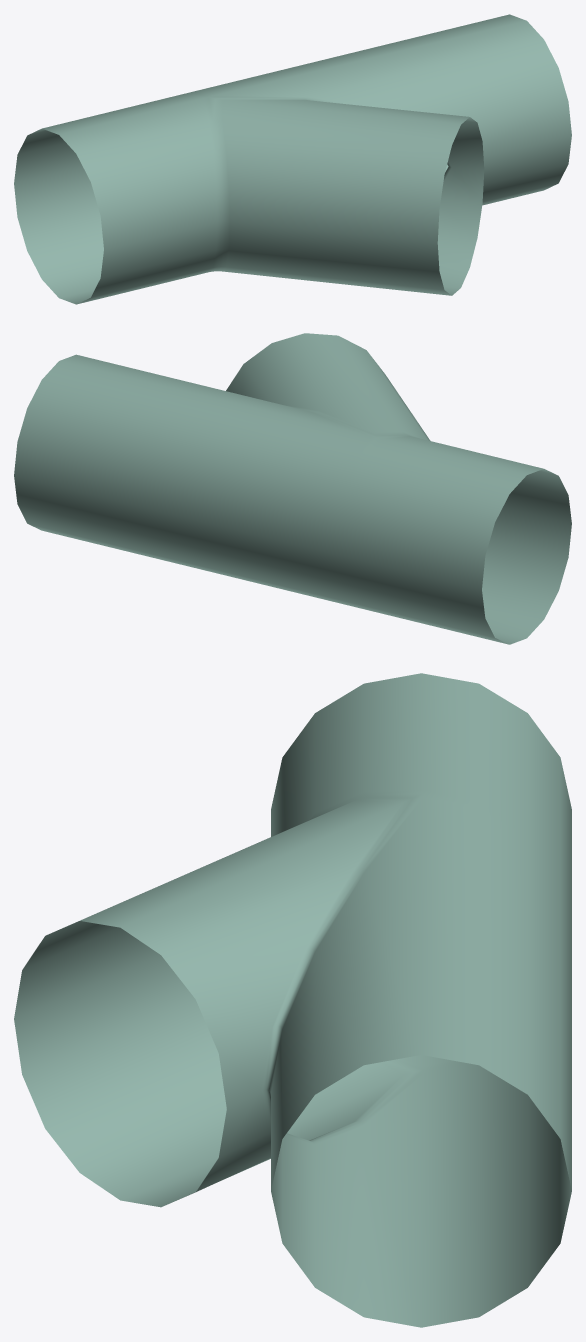
Rendered from PipeLarge_Cross_Y.fbx.
3 renders of one model, top to bottom at view 1: azimuth 30°, elevation 25°; view 2: azimuth 150°, elevation 25°; view 3: azimuth 270°, elevation 25°, orthographic. The views are drawn at different scales.
Parts seen in each view (by area): view 1: PipeLarge_Cross_Y.001; view 2: PipeLarge_Cross_Y.001; view 3: PipeLarge_Cross_Y.001.
Part boxes in pixels (box(x1,y1,x2,y2)): PipeLarge_Cross_Y.001: box(14, 14, 571, 304); PipeLarge_Cross_Y.001: box(14, 333, 571, 644); PipeLarge_Cross_Y.001: box(14, 673, 571, 1327).
Size of the model in its own units: 0.6 by 0.2027 by 0.3707.
